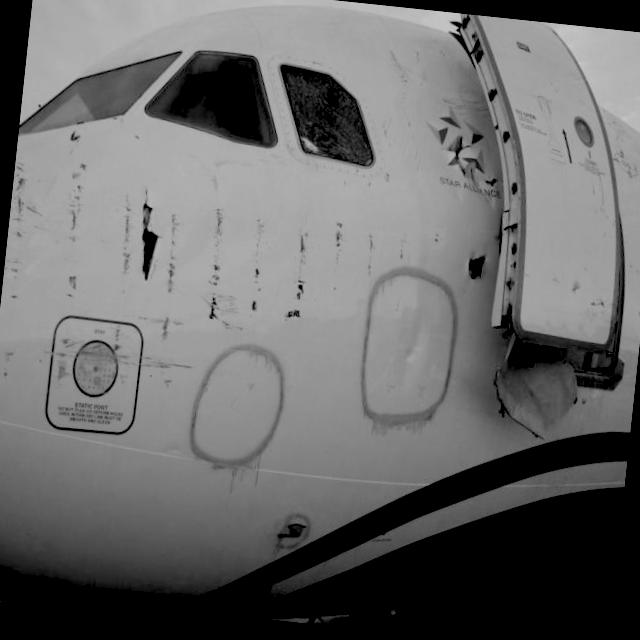crack: (130, 192, 172, 288), (455, 240, 493, 286)
dent: (393, 314, 436, 373)
